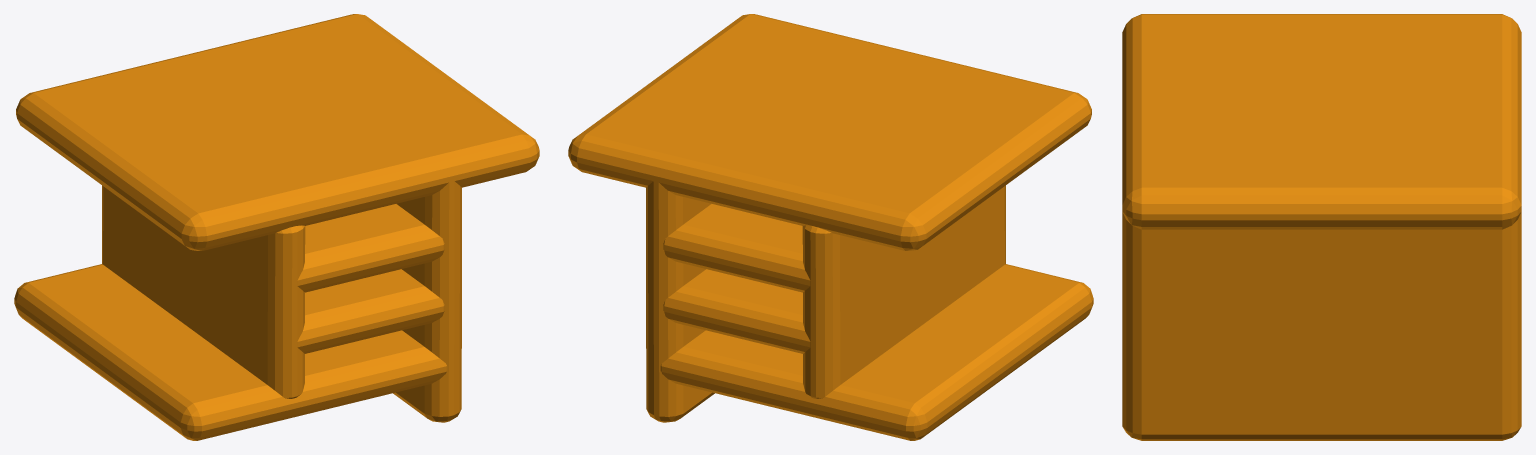
Rendered from mimi.glb.
The picture shows the model from 3 angles, left to right: view 1: azimuth 30°, elevation 25°; view 2: azimuth 150°, elevation 25°; view 3: azimuth 270°, elevation 25°; orthographic projection. The views are drawn at different scales.
Visible parts, largest first — view 1: Cube, Cube.001, Cube.003, Cube.002, Cube.005, Cube.004; view 2: Cube, Cube.001, Cube.003, Cube.002, Cube.005, Cube.004; view 3: Cube, Cube.002.
Part boxes in pixels (x1,y1,x2,y2): Cube: (16,14,539,250); Cube.001: (14,264,447,440); Cube.003: (102,185,305,398); Cube.002: (393,181,461,422); Cube.005: (297,204,444,292); Cube.004: (297,269,444,353); Cube: (568,14,1091,250); Cube.001: (660,264,1093,440); Cube.003: (802,185,1005,398); Cube.002: (646,180,714,422); Cube.005: (663,204,810,292); Cube.004: (663,269,810,353); Cube: (1122,14,1521,229); Cube.002: (1122,212,1521,440).
Bounding box in the file's own units: 6.56 × 4.68 × 5.78.
